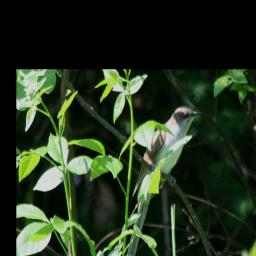Cuckoo: (124, 106, 204, 256)
